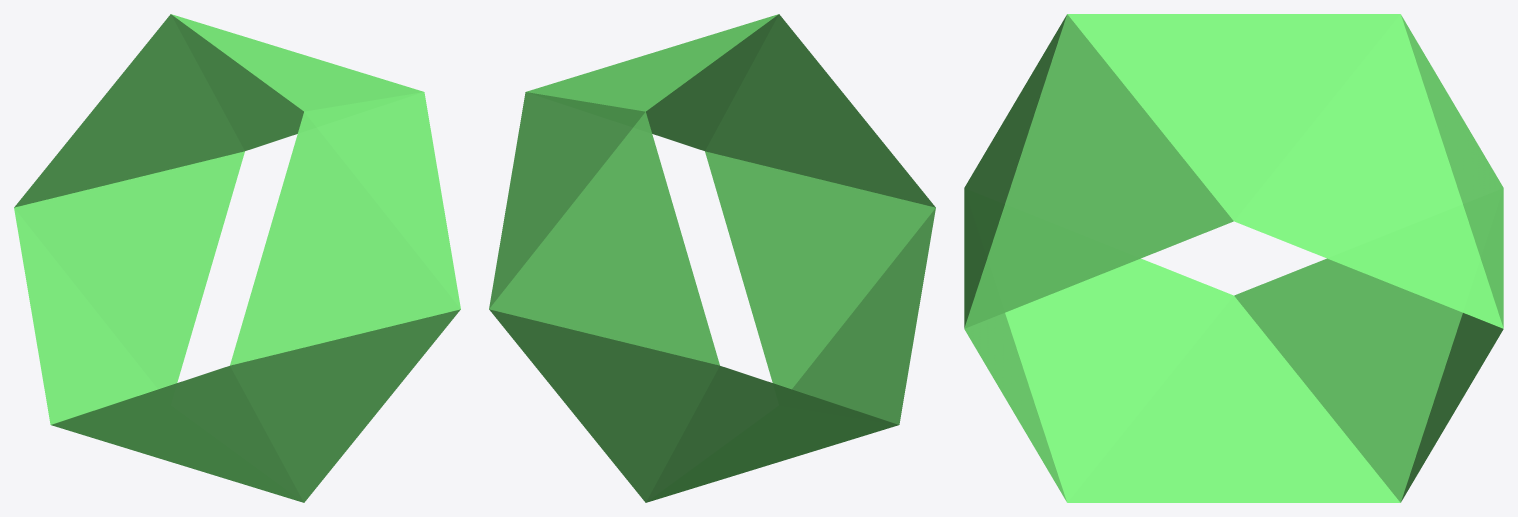
File: PentagonalAntiprismA.obj
3 views of the same model, side by side, from view 1: azimuth 30°, elevation 25°; view 2: azimuth 150°, elevation 25°; view 3: azimuth 270°, elevation 25° (orthographic). The views are drawn at different scales.
Size of the model in its own units: 1.62 by 1.62 by 1.62.
